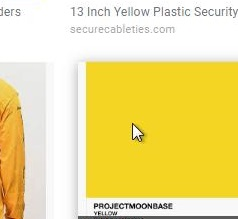cursor: (130, 121, 145, 142)
